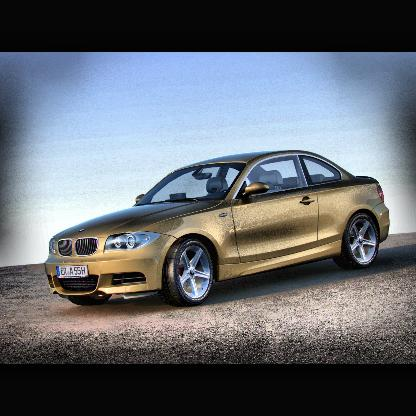BMW 1 Series Coupe 2012: (34, 151, 395, 303)
